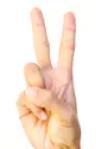front: (12, 3, 84, 146)
